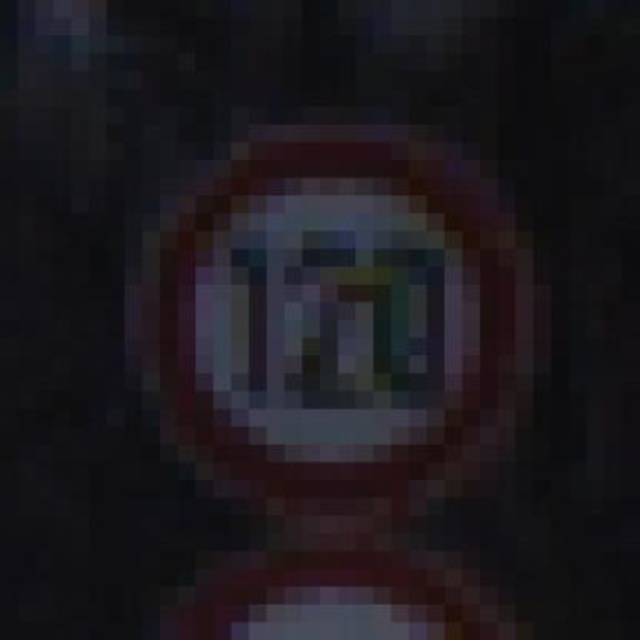Tốc độ tối đa cho phép 120km/h: (148, 134, 520, 517)
